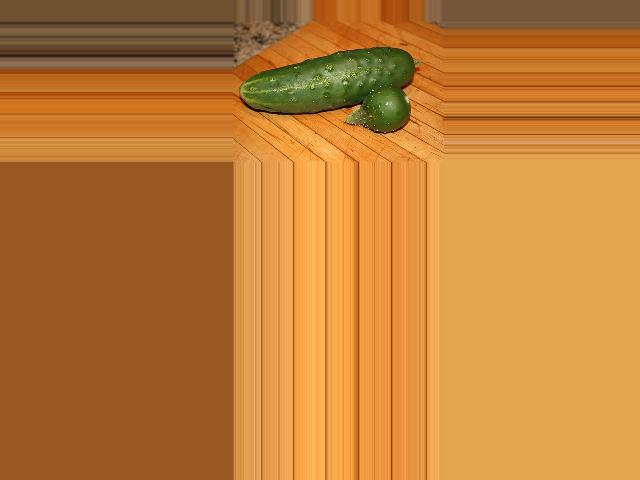cucumber: (238, 47, 415, 114)
